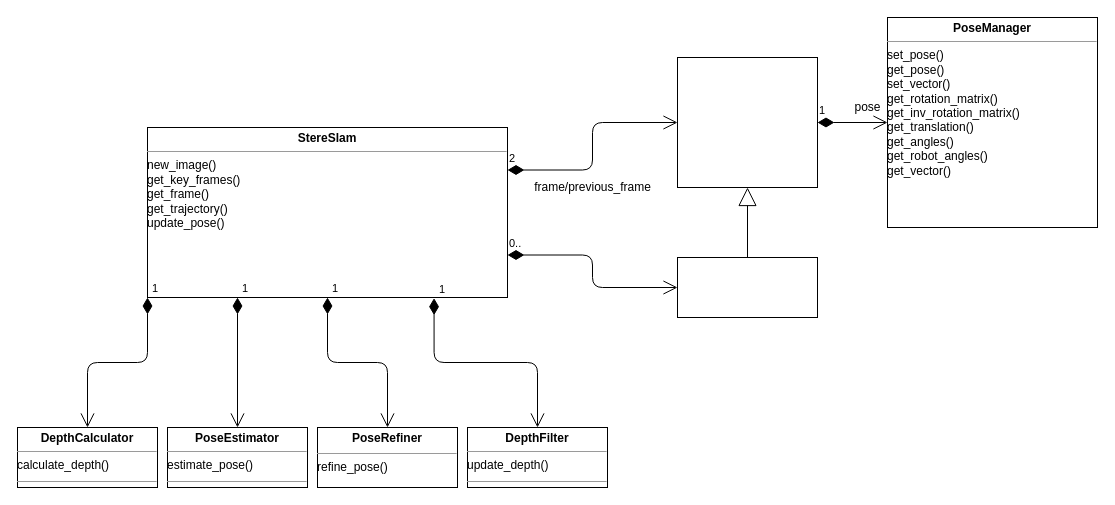
The diagram is 1115 pixels wide and 505 high, and some of its shapes have lost their labels. Here are the shapes that lost their labels. From the top down, the centre of each, then its label:
the point at 747,122: Frame id stereo_image kps time_stamp
the point at 747,287: KeyFrame
